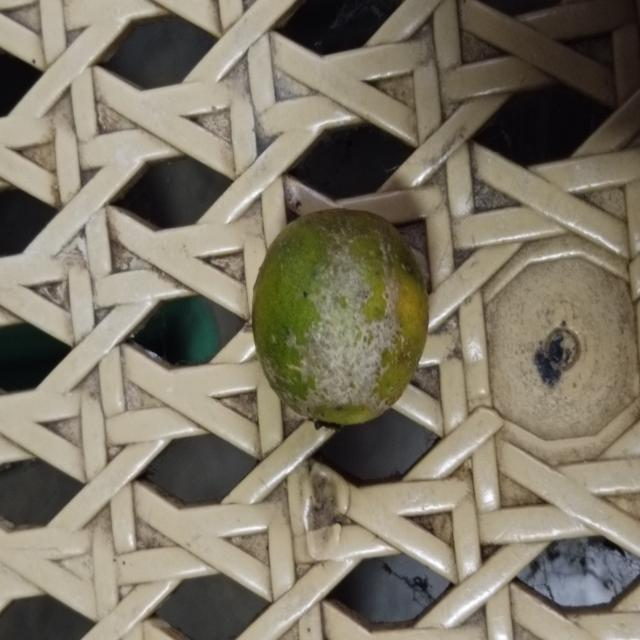thrips: (248, 197, 434, 432)
